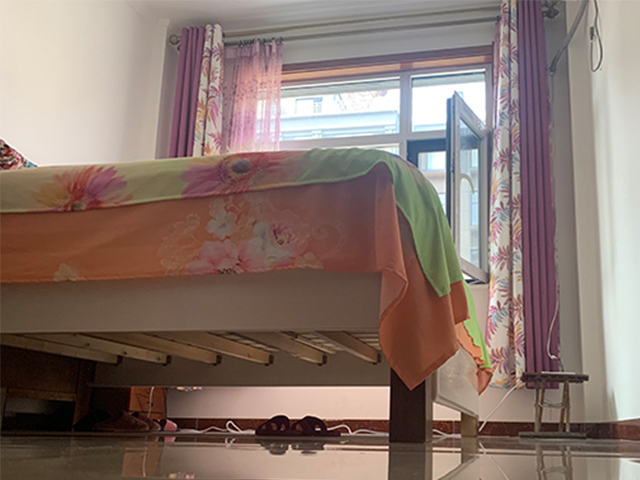bed: (1, 140, 494, 445)
curtain: (483, 2, 561, 389)
slippers: (74, 408, 156, 439), (254, 413, 300, 438), (297, 414, 343, 439)
wire: (520, 370, 589, 439), (483, 386, 527, 438), (177, 421, 253, 437)
